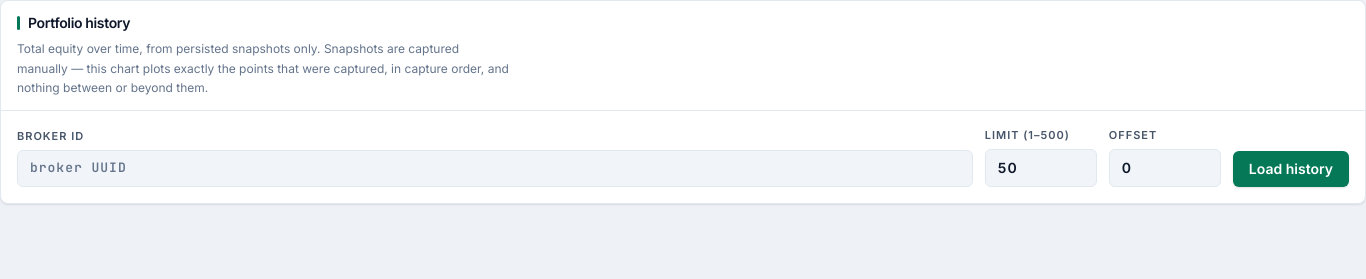
PortfolioHistoryChart › renders a real 404 for an unknown broker id
In the field labelled "Broker ID": [495, 169] box [17,150,973,187], type "b-unknown"
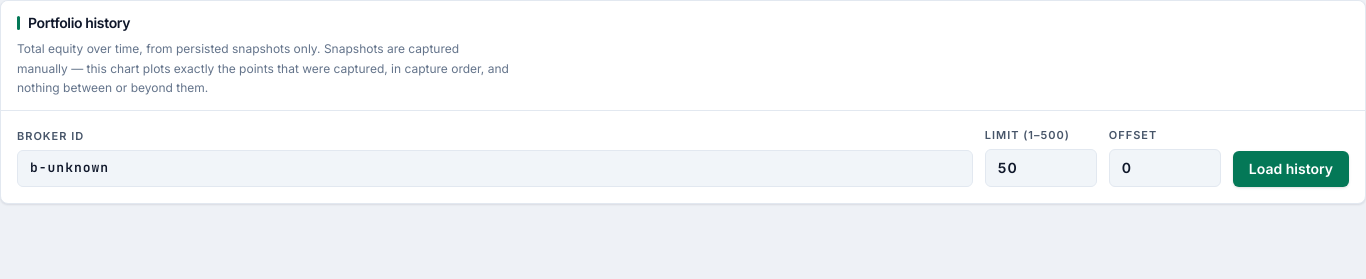
Click the button "Load history": [1291, 169] box [1233,151,1349,187]
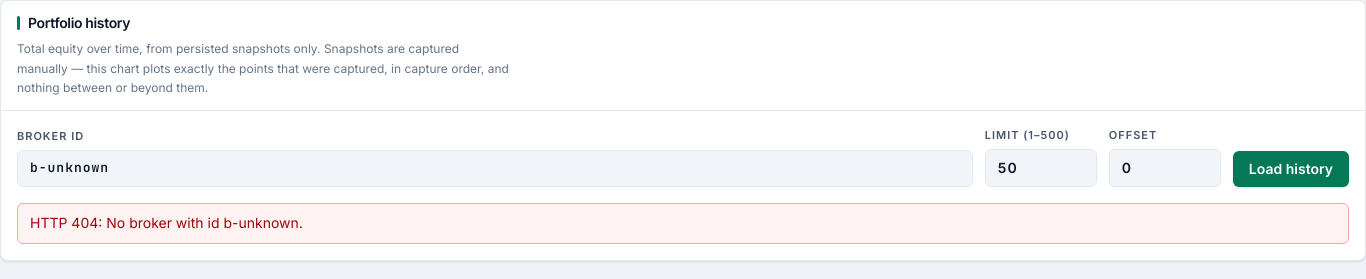
Result: the text "HTTP 404: No broker with id b-unknown." is shown at [17,203,1349,244]
